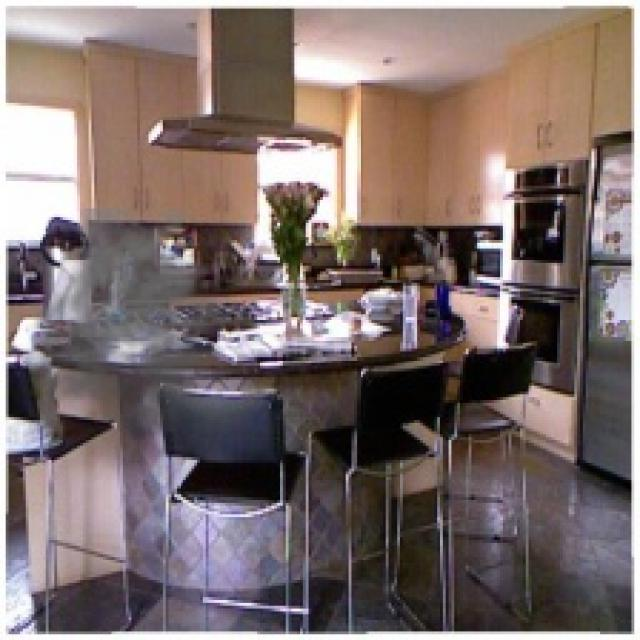Smoke: (22, 209, 248, 437)
